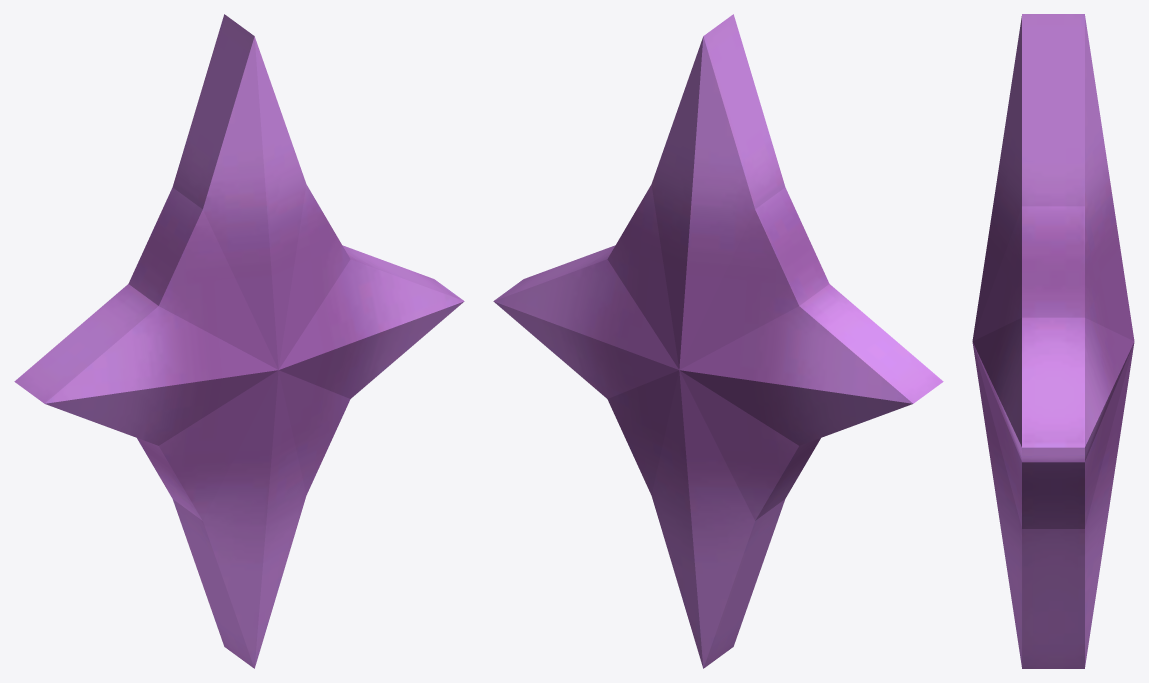
Rendered from ShrinkParticle.fbx.
3 renders of one model, left to right at view 1: azimuth 30°, elevation 25°; view 2: azimuth 150°, elevation 25°; view 3: azimuth 270°, elevation 25°, orthographic. The views are drawn at different scales.
Visible parts, largest first — view 1: ShrinkParticle_Mesh; view 2: ShrinkParticle_Mesh; view 3: ShrinkParticle_Mesh.
Boxes of the visible parts, x1,y1,x2,y2 form: ShrinkParticle_Mesh: [14, 14, 464, 668]; ShrinkParticle_Mesh: [493, 14, 943, 668]; ShrinkParticle_Mesh: [972, 14, 1134, 668].
Bounding box in the file's own units: 26.67 × 38.38 × 8.61.
